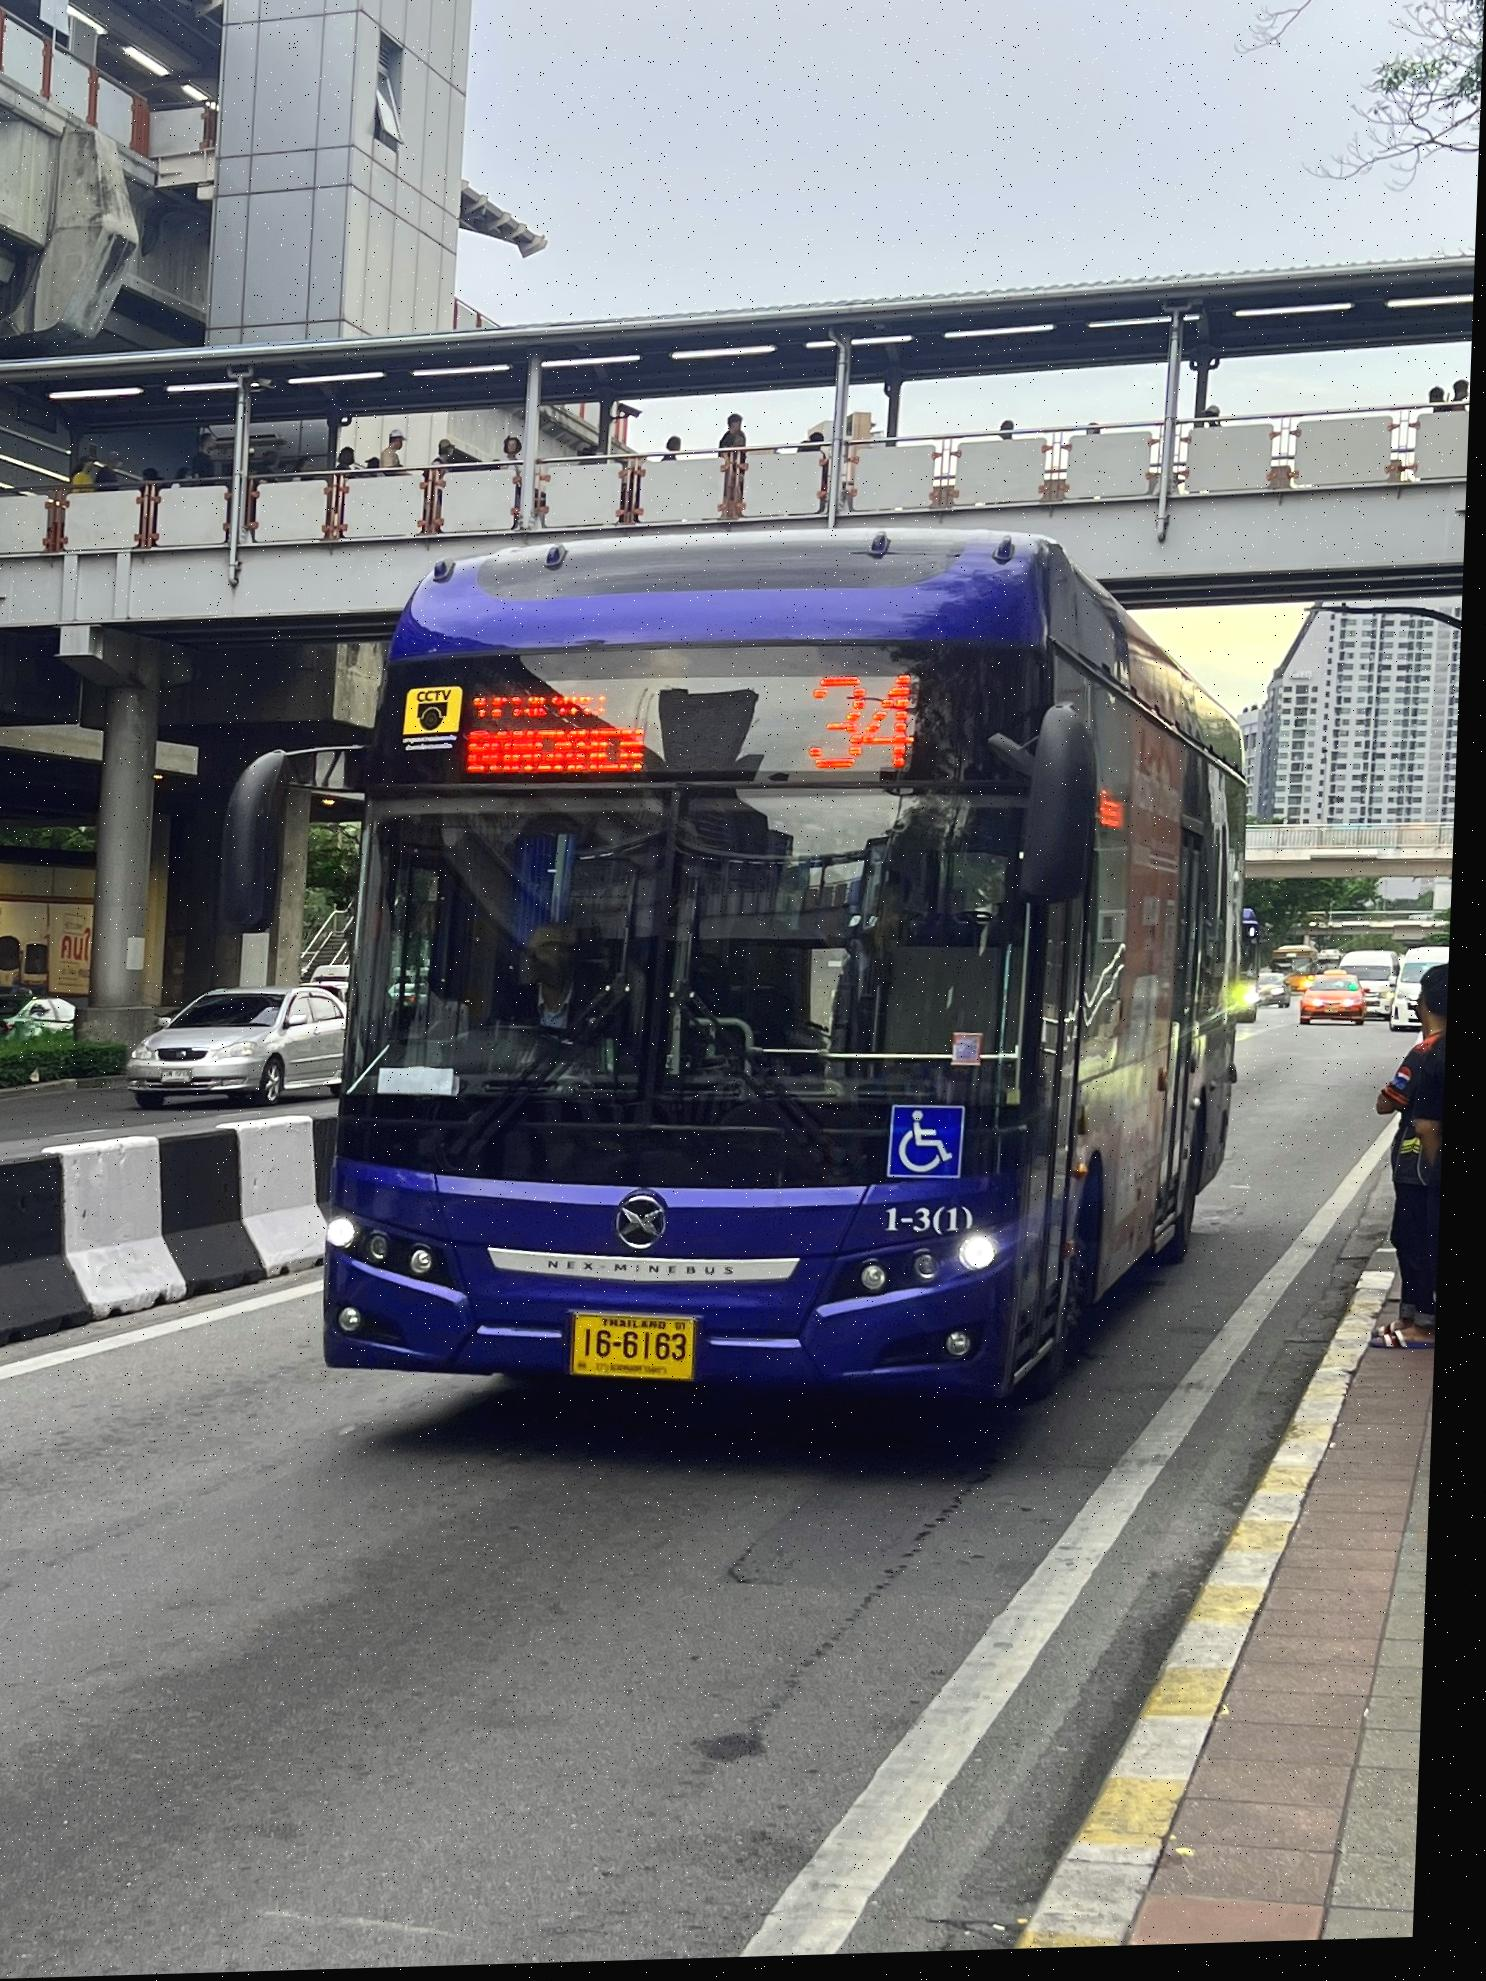Bus Line Number: (805, 662, 932, 795)
Bus Side Number: (882, 1199, 990, 1250)
Destination Sign: (464, 670, 676, 793)
TSB-Bus: (329, 539, 1260, 1421)
